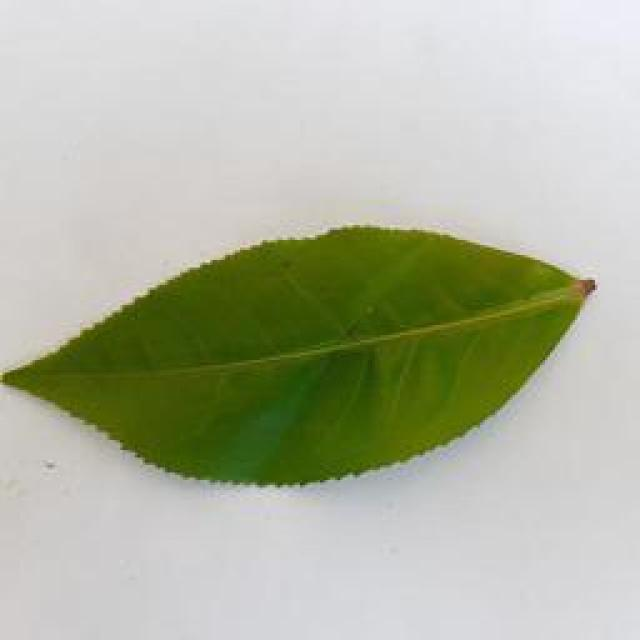Healthy: (6, 198, 606, 498)
